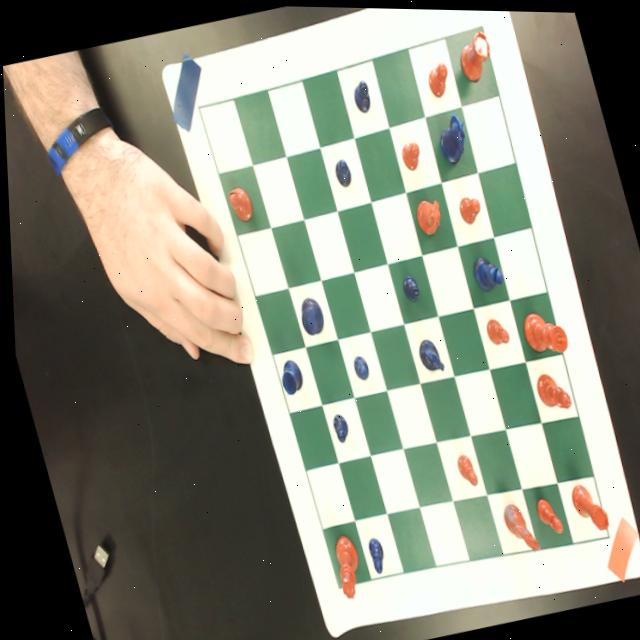B: (465, 247, 504, 294)
K: (293, 294, 324, 337)
N: (428, 104, 474, 169), (409, 331, 443, 377)
P: (348, 75, 374, 113), (360, 533, 383, 574), (397, 270, 420, 301), (327, 410, 348, 443), (331, 156, 352, 187), (348, 352, 368, 380)
R: (273, 356, 302, 394)
b: (530, 366, 570, 413), (222, 181, 254, 223)
k: (516, 305, 568, 356)
n: (494, 491, 537, 555), (409, 193, 445, 238)
p: (528, 490, 561, 536), (422, 58, 454, 98), (449, 449, 475, 488), (453, 191, 483, 224), (480, 312, 509, 346), (397, 137, 423, 171)
q: (323, 531, 363, 599)
r: (451, 22, 498, 82), (564, 478, 606, 533)
